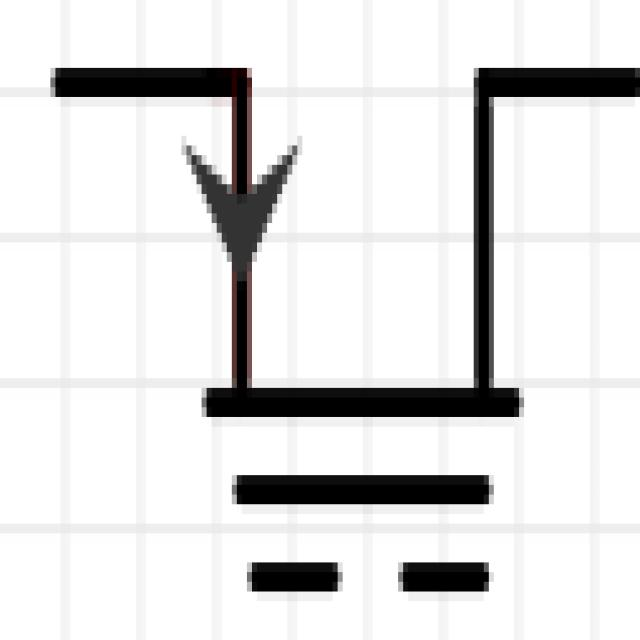pmos: (55, 4, 640, 632)
